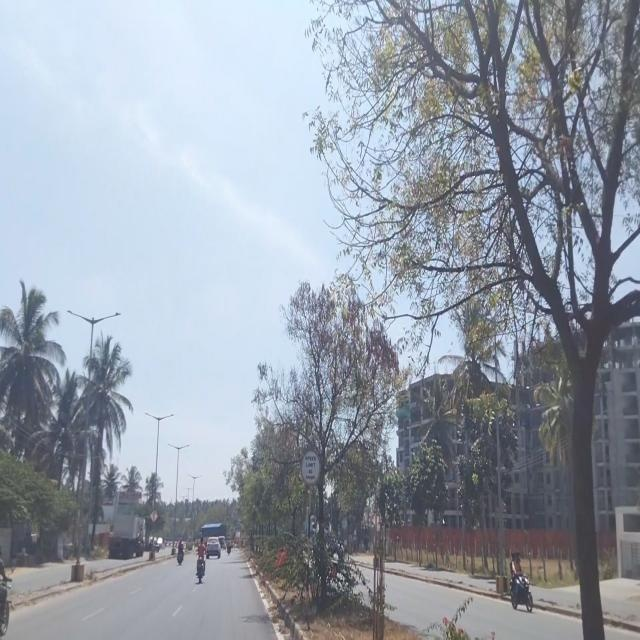bien_nguy_hiem: (301, 449, 321, 487)
